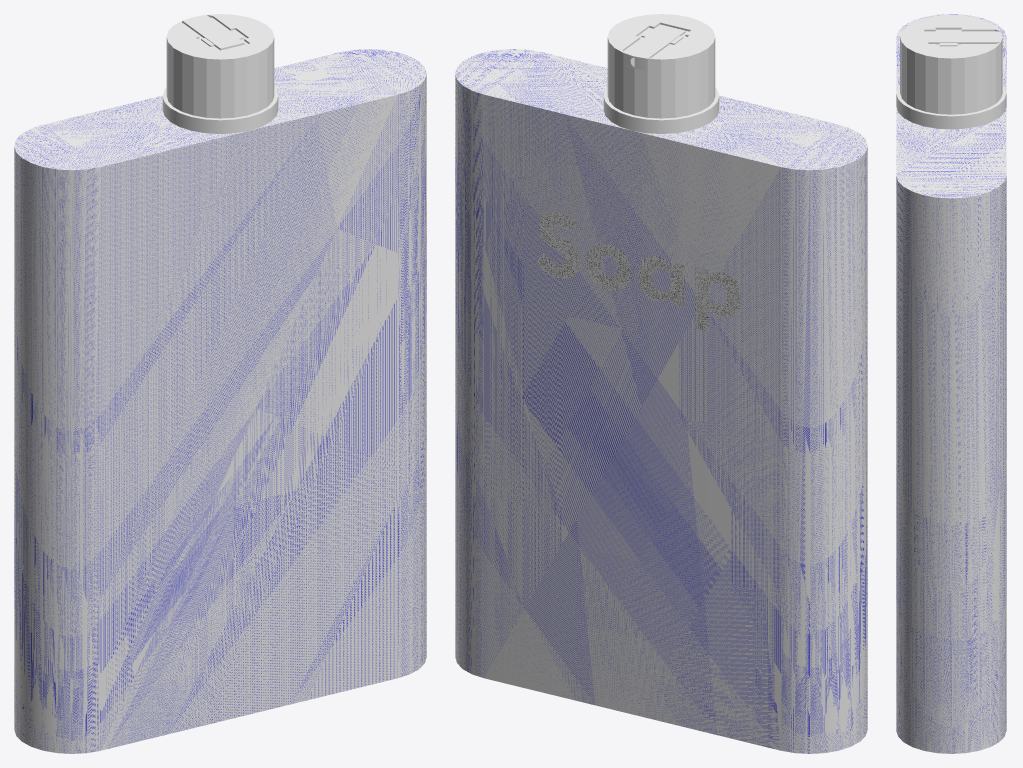
3 views of the same model, side by side, from view 1: azimuth 30°, elevation 25°; view 2: azimuth 150°, elevation 25°; view 3: azimuth 270°, elevation 25° (orthographic). The views are drawn at different scales.
Visible parts, largest first — view 1: mesh5_mesh5-geometry; view 2: mesh5_mesh5-geometry, mesh4_mesh4-geometry, mesh1_mesh1-geometry, mesh3_mesh3-geometry, mesh2_mesh2-geometry; view 3: mesh5_mesh5-geometry.
Boxes of the visible parts, x1,y1,x2,y2 form: mesh5_mesh5-geometry: (14,14,426,753); mesh5_mesh5-geometry: (455,14,867,753); mesh4_mesh4-geometry: (695,267,741,331); mesh1_mesh1-geometry: (536,212,579,278); mesh3_mesh3-geometry: (638,255,684,306); mesh2_mesh2-geometry: (586,243,631,290); mesh5_mesh5-geometry: (896,14,1006,753).
Bounding box in the file's own units: 0.5298 × 0.837 × 0.1366.
